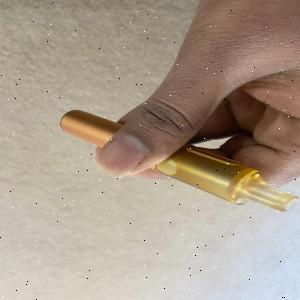Golden-E-Ciggirate: (42, 99, 300, 226)
